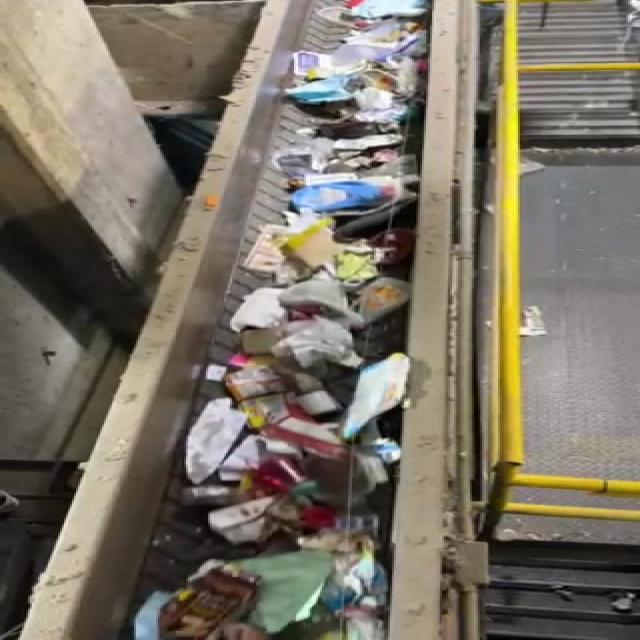hdpe: (342, 351, 415, 439)
paper: (200, 498, 324, 546), (192, 388, 246, 483)
pp: (162, 557, 262, 640)
